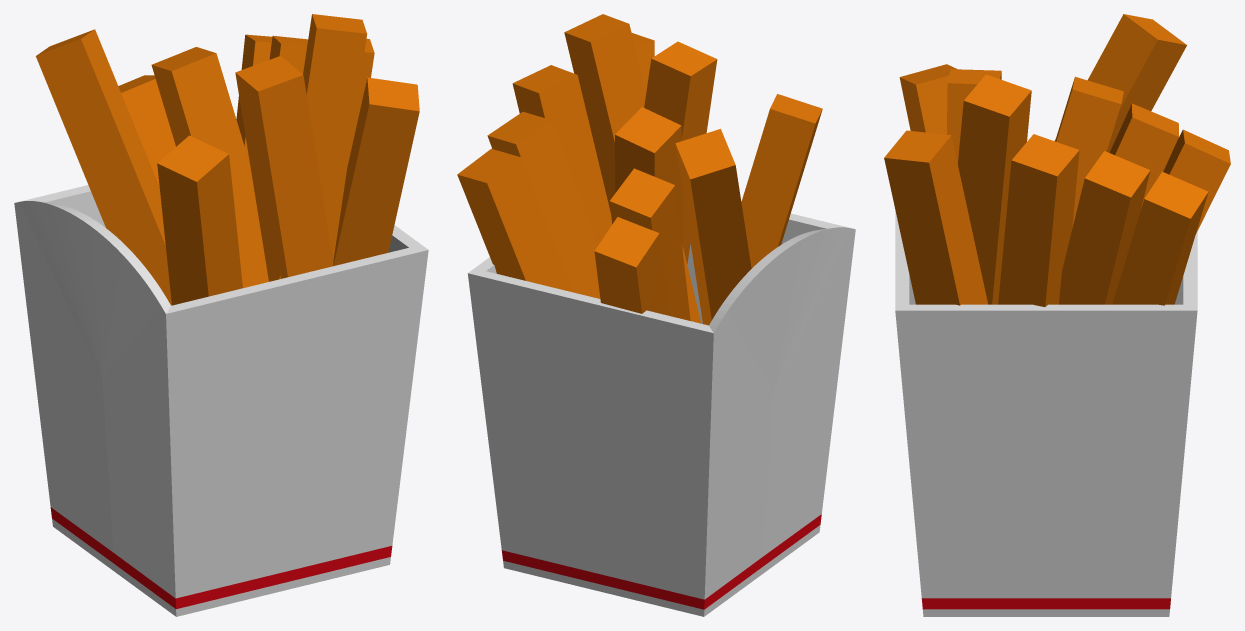
The model's file is FriesCupFilled.fbx.
3 views of the same model, side by side, from view 1: azimuth 30°, elevation 25°; view 2: azimuth 150°, elevation 25°; view 3: azimuth 270°, elevation 25° (orthographic). The views are drawn at different scales.
Parts seen in each view (by area): view 1: FriesCupFilled; view 2: FriesCupFilled; view 3: FriesCupFilled.
Part boxes in pixels (box(x1,y1,x2,y2)): FriesCupFilled: box(14, 14, 428, 616); FriesCupFilled: box(457, 14, 855, 616); FriesCupFilled: box(884, 14, 1230, 616).
Size of the model in its own units: 268 by 469 by 282.
